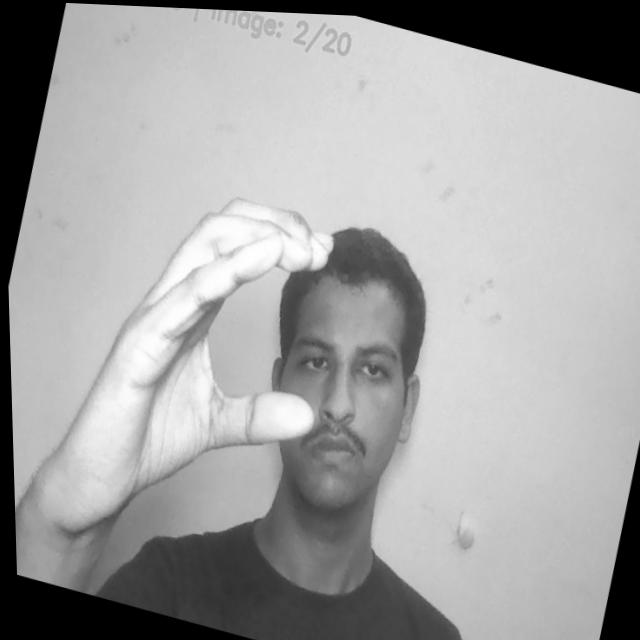No: (36, 157, 357, 544)
